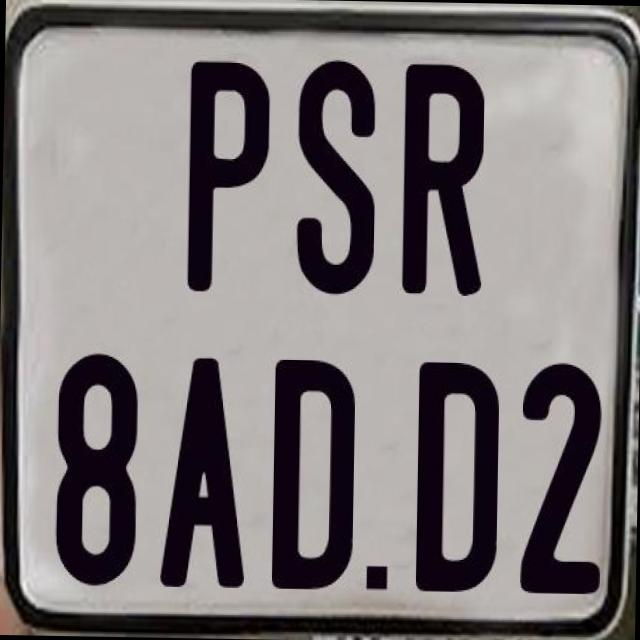2: (516, 357, 608, 597)
8: (51, 350, 142, 590)
A: (160, 358, 252, 592)
D: (412, 358, 502, 598), (268, 358, 358, 594)
P: (183, 56, 271, 296)
R: (398, 59, 483, 292)
S: (293, 54, 377, 294)
